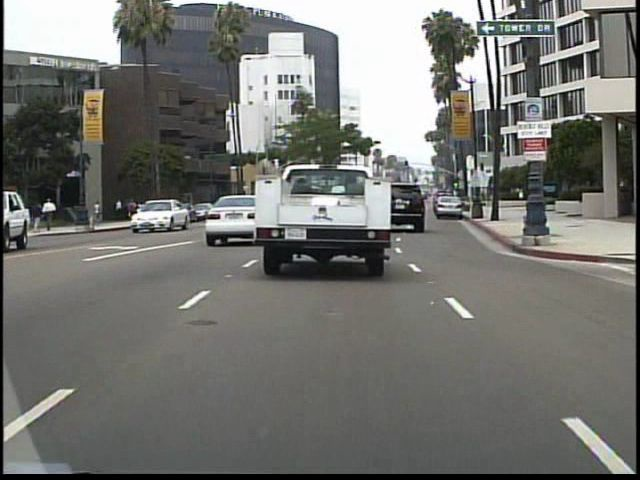person: (30, 199, 46, 238), (45, 194, 61, 233), (531, 184, 545, 216), (96, 199, 104, 225)
